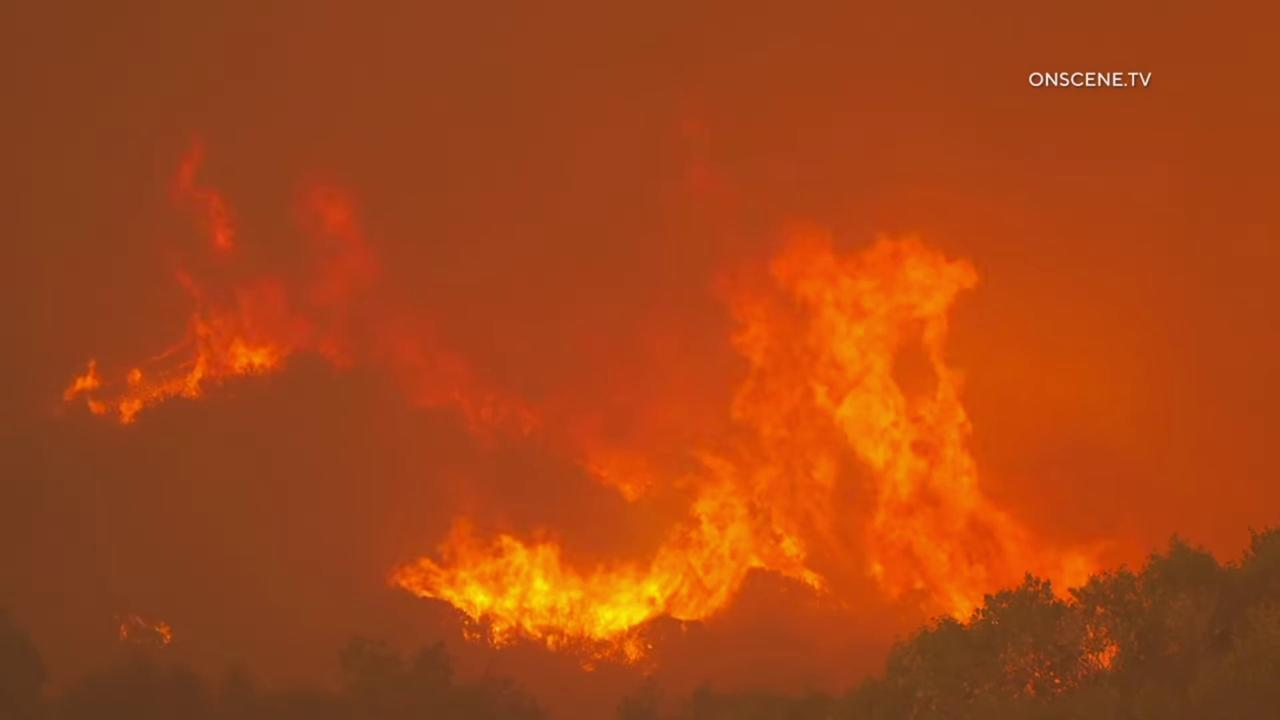fire: (383, 213, 1127, 702), (54, 126, 660, 505), (104, 608, 177, 650)
smoke: (0, 0, 1280, 720)
